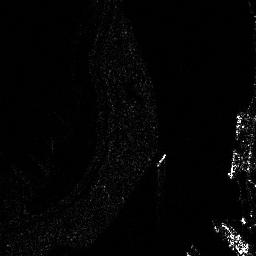ship: (220, 219, 250, 255)
